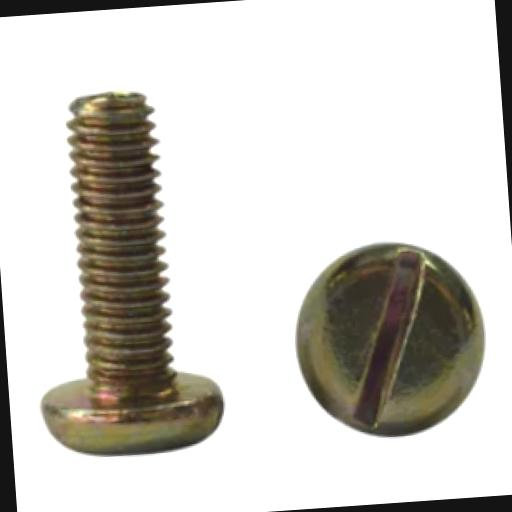Slotted: (294, 239, 496, 444)
